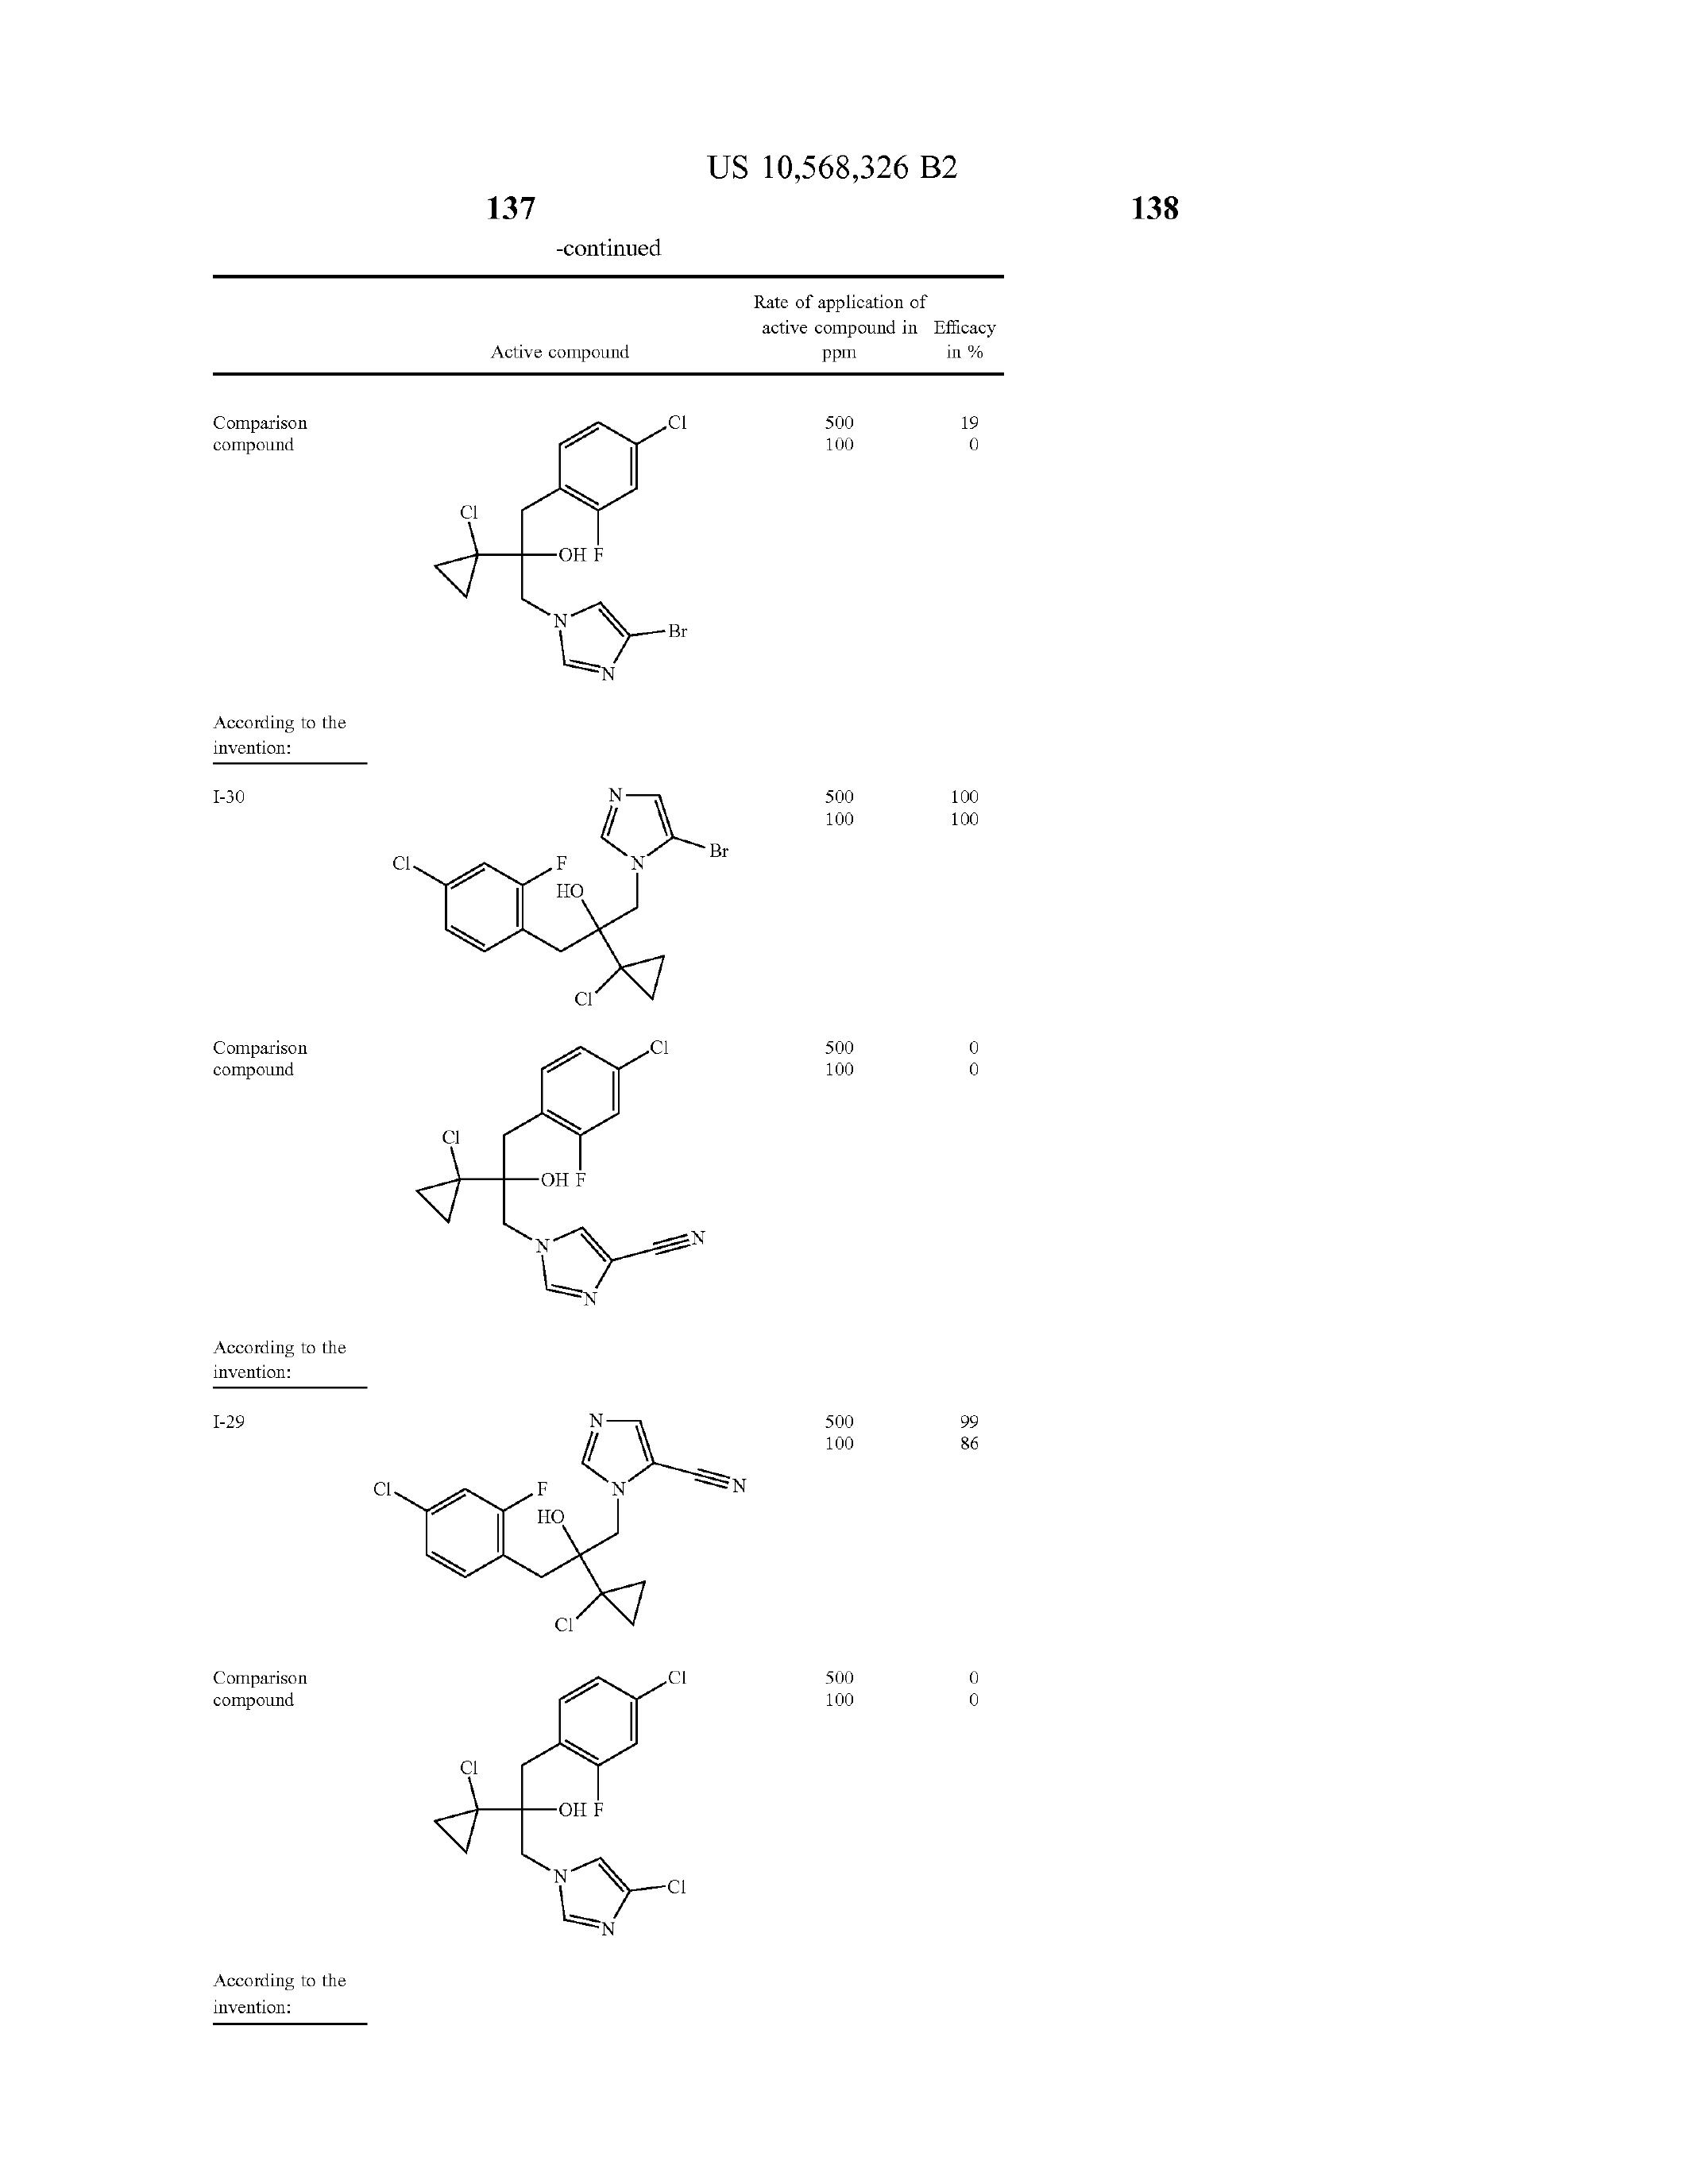relevant-structures: (365, 1649, 823, 2026), (374, 402, 770, 709), (367, 1039, 773, 1328), (381, 743, 778, 1032), (365, 1386, 782, 1631)
